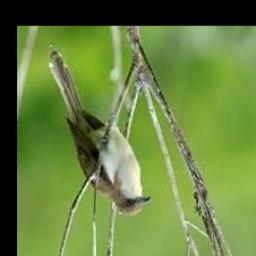Cuckoo: (48, 44, 151, 215)
